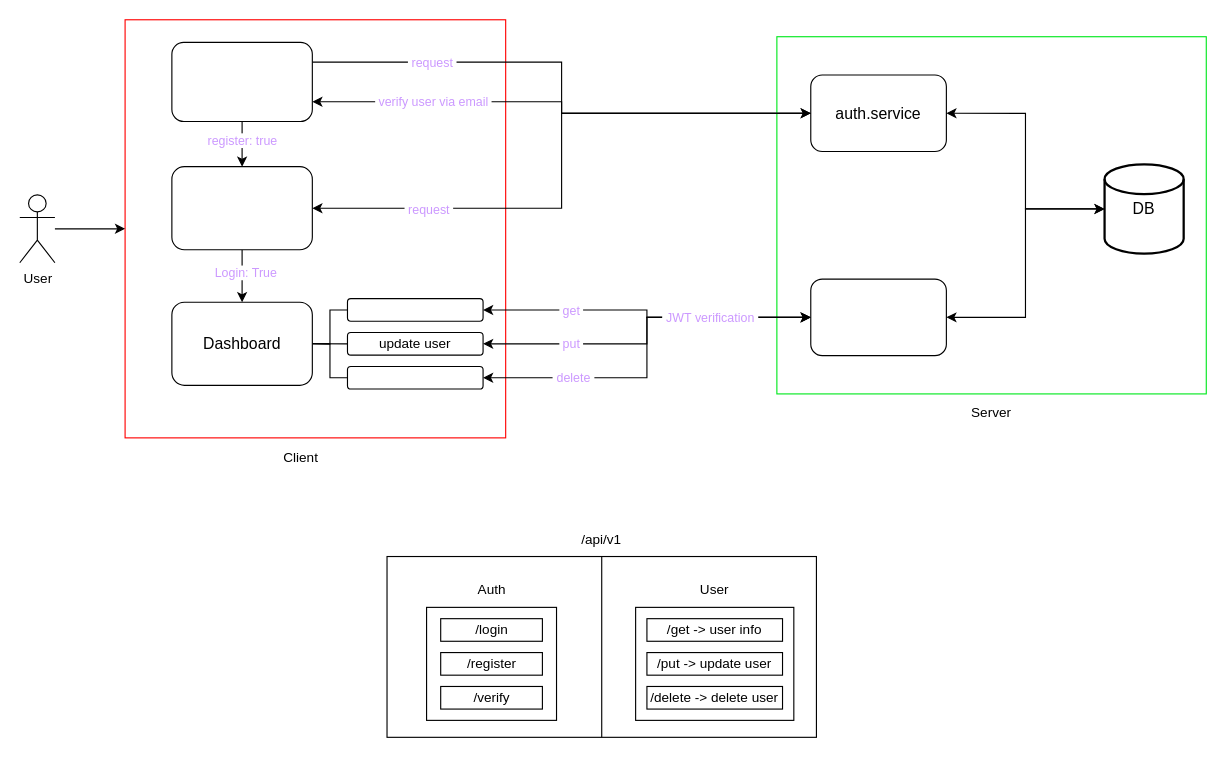
This 1226x758 diagram has some shape labels left out. Each missing label, with the box of its shape:
delete user: (346, 365, 483, 389)
login: (171, 166, 312, 250)
register: (171, 41, 312, 121)
user info: (346, 298, 483, 321)
user.service: (810, 278, 946, 356)
